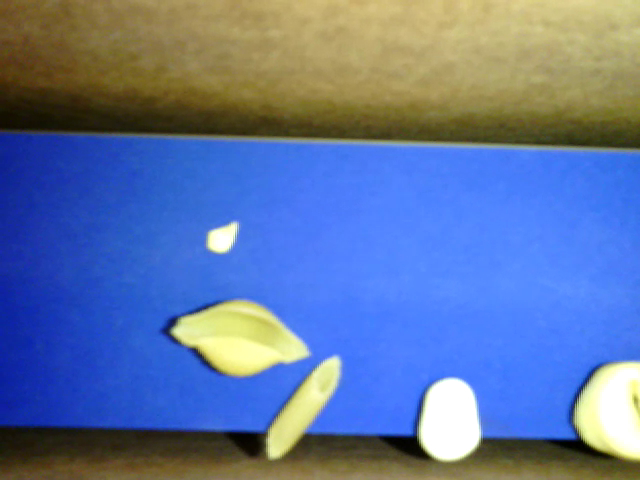penne: (266, 354, 342, 460)
shell: (169, 295, 311, 381)
tortellini: (569, 361, 639, 461)
